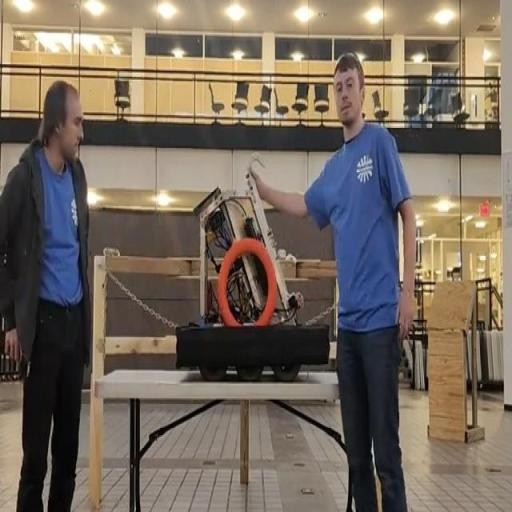robot: (174, 155, 330, 382)
